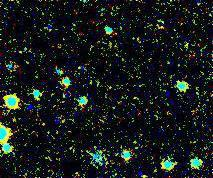star: (15, 97, 45, 127)
